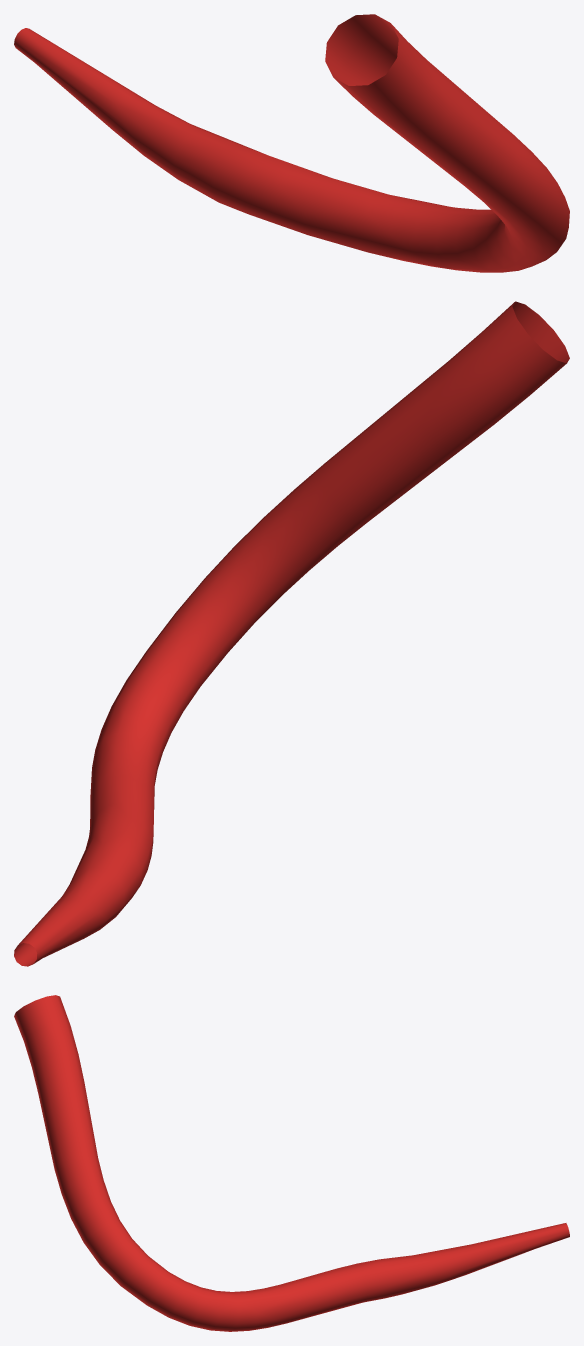
The model's file is circulatorio-calcaneal-branches-of-posterior-tibial-artery-l.glb.
3 views of the same model, one above another, from view 1: azimuth 30°, elevation 25°; view 2: azimuth 150°, elevation 25°; view 3: azimuth 270°, elevation 25° (orthographic). The views are drawn at different scales.
Visible parts, largest first — view 1: Calcaneal branches of posterior tibial artery.l; view 2: Calcaneal branches of posterior tibial artery.l; view 3: Calcaneal branches of posterior tibial artery.l.
Boxes of the visible parts, box(x1,y1,x2,y2) form: Calcaneal branches of posterior tibial artery.l: box(14, 14, 569, 272); Calcaneal branches of posterior tibial artery.l: box(14, 301, 569, 966); Calcaneal branches of posterior tibial artery.l: box(14, 995, 569, 1331).
Bounding box in the file's own units: 0.00923 × 0.0117 × 0.0222.
